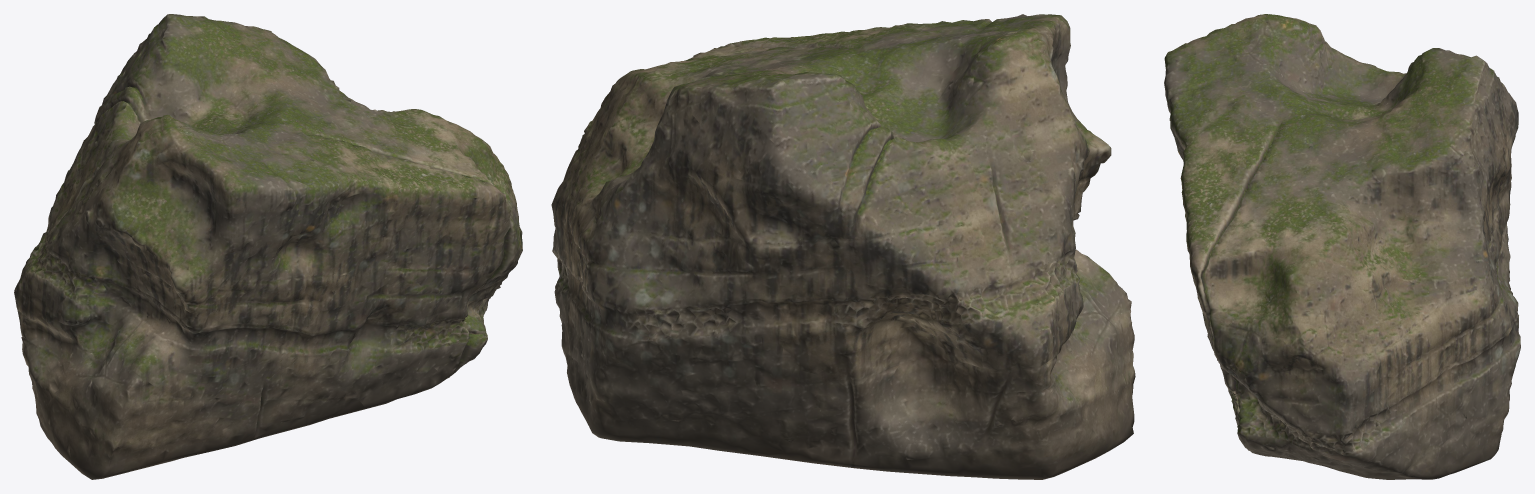
Rendered from balvan_piskovec_3.glb.
The picture shows the model from 3 angles, left to right: view 1: azimuth 30°, elevation 25°; view 2: azimuth 150°, elevation 25°; view 3: azimuth 270°, elevation 25°; orthographic projection. The views are drawn at different scales.
Parts seen in each view (by area): view 1: balvan_piskovec_3; view 2: balvan_piskovec_3; view 3: balvan_piskovec_3.
Boxes of the visible parts, <box> form: balvan_piskovec_3: <box>14,14,522,479</box>; balvan_piskovec_3: <box>551,14,1135,479</box>; balvan_piskovec_3: <box>1164,14,1520,479</box>.
Bounding box in the file's own units: 3.12 × 2.23 × 2.14.
Materials: 1 (1 with a texture image).
